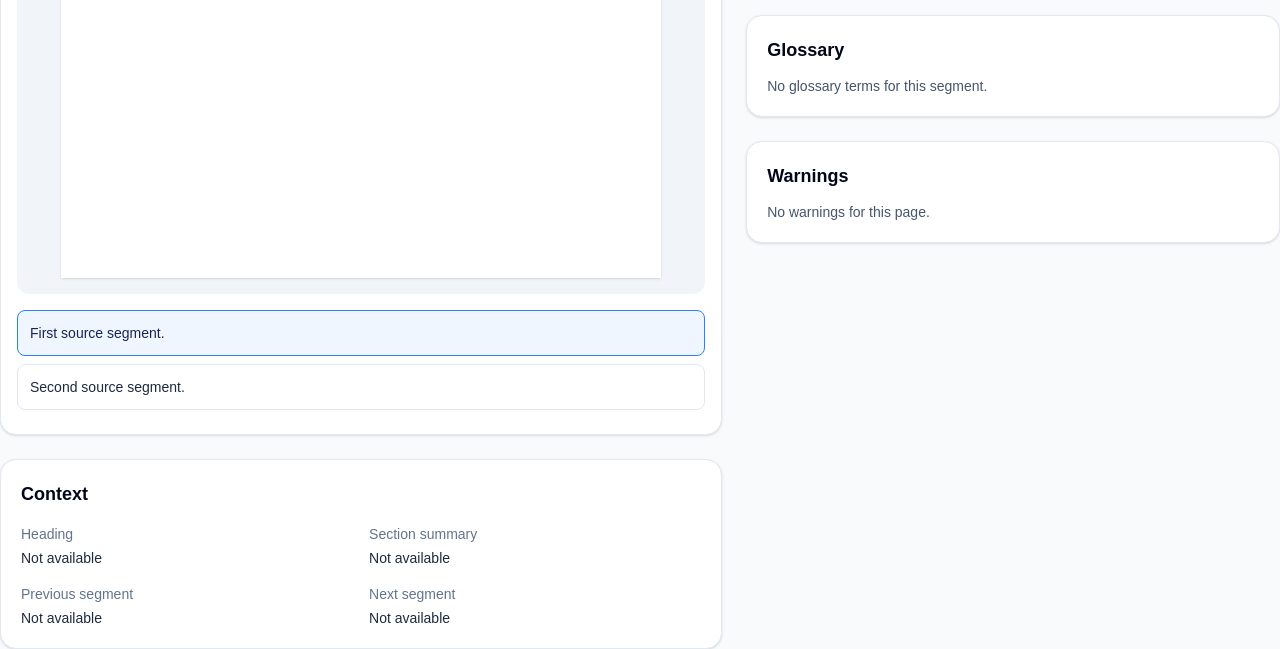
Test case: ReviewEditor › selects a segment and updates the source and translation panels
(page scrolled)
Expected: the button "First source segment." is shown, x1=17 y1=310 x2=705 y2=356
Step 1. Click the button "Second source segment." → (107, 387), box x1=17 y1=364 x2=705 y2=410
(page scrolled)
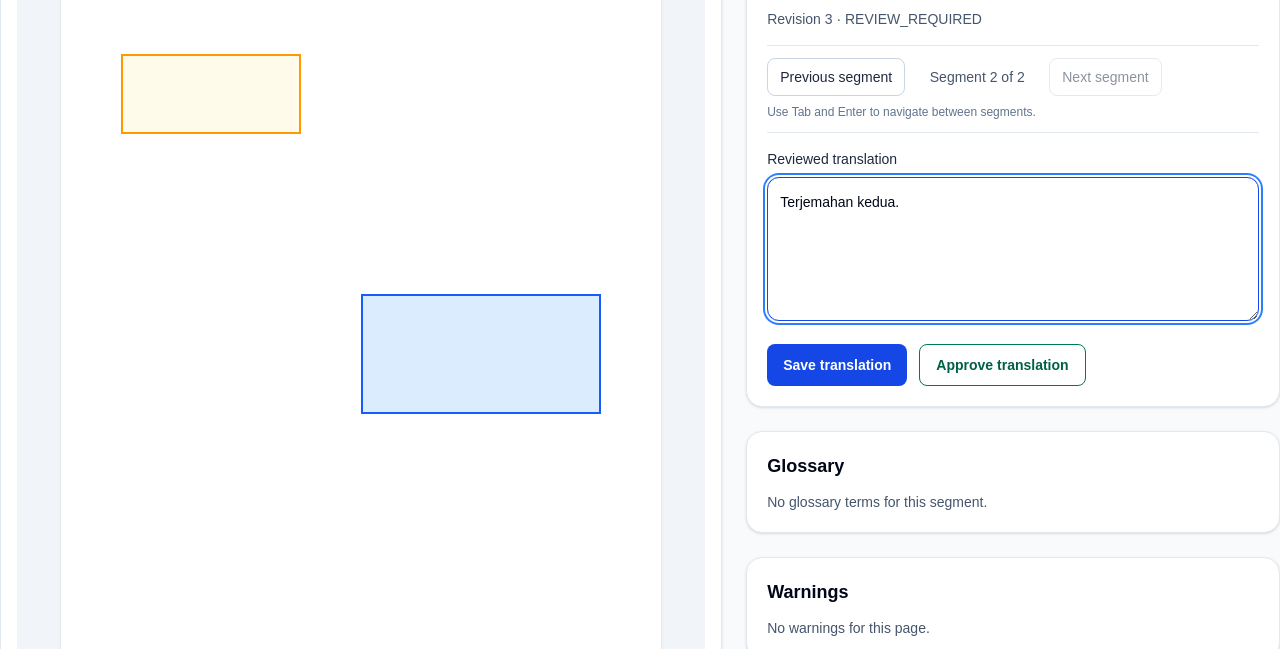
Expected: the text box labelled "Reviewed translation" holds "Terjemahan kedua.", x1=767 y1=177 x2=1259 y2=321
